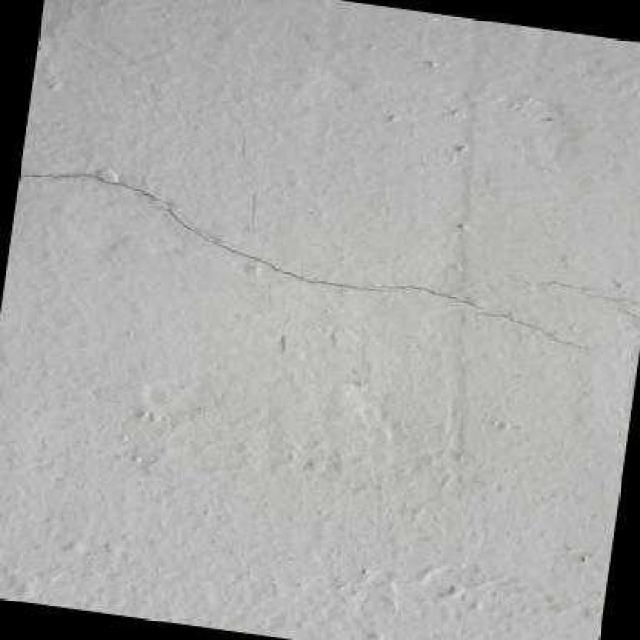D00: (16, 167, 610, 356)
